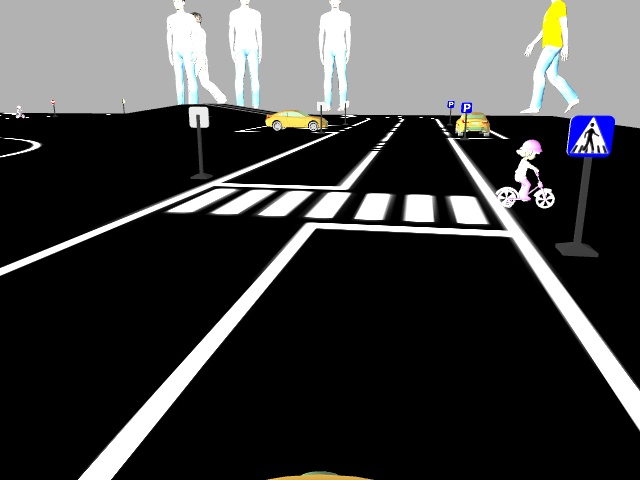Crosswalk: (566, 114, 614, 157)
Parking: (459, 101, 472, 113), (446, 99, 454, 108)
Pedestrian: (487, 138, 558, 210)
